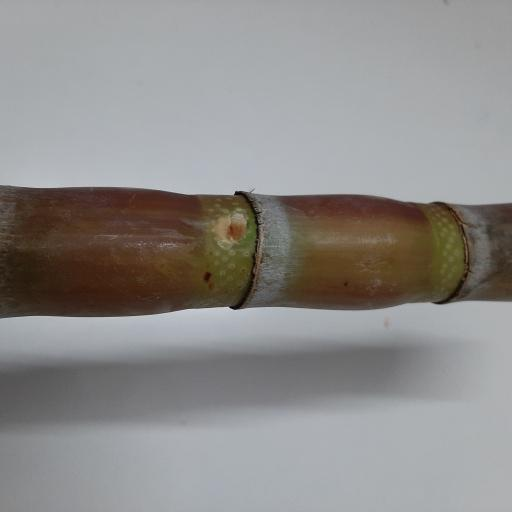Damage_Bud: (215, 209, 252, 250)
